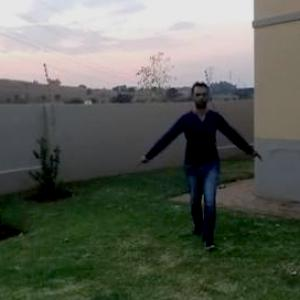land: (140, 84, 247, 221)
